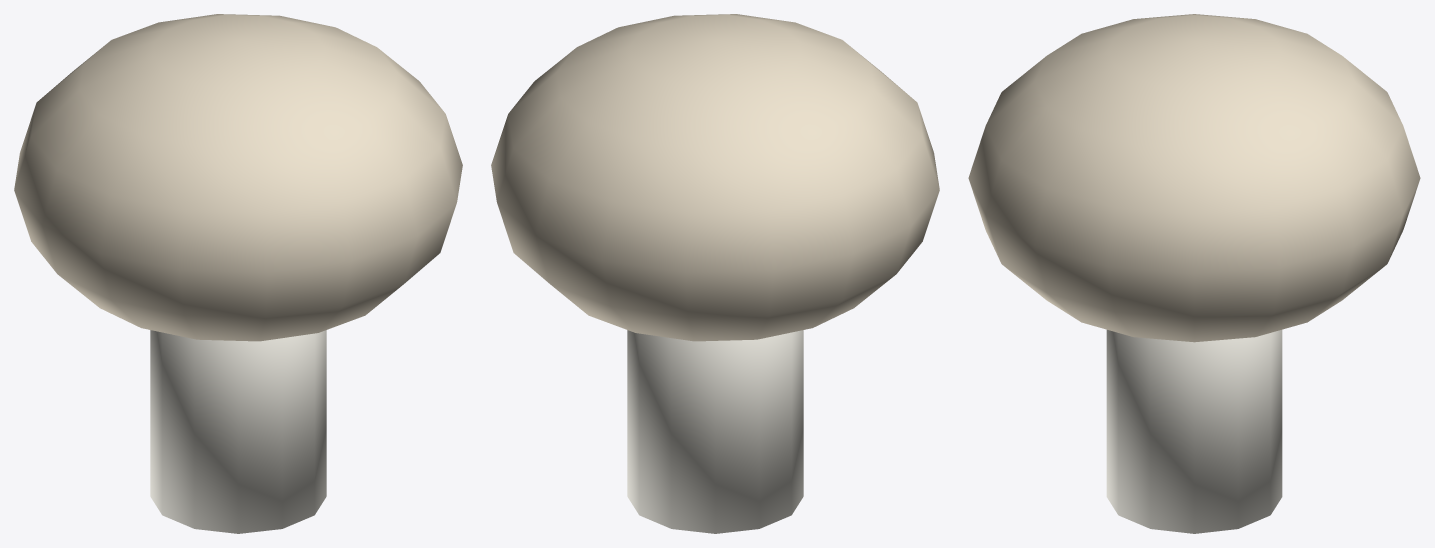
File: mushroom.fbx
3 views of the same model, side by side, from view 1: azimuth 30°, elevation 25°; view 2: azimuth 150°, elevation 25°; view 3: azimuth 270°, elevation 25° (orthographic).
Parts seen in each view (by area): view 1: mushroom; view 2: mushroom; view 3: mushroom.
Boxes of the visible parts, x1=… form: mushroom: x1=14, y1=14, x2=462, y2=533; mushroom: x1=491, y1=14, x2=939, y2=533; mushroom: x1=968, y1=14, x2=1420, y2=533.
Bounding box in the file's own units: 0.18 × 0.2 × 0.18.
